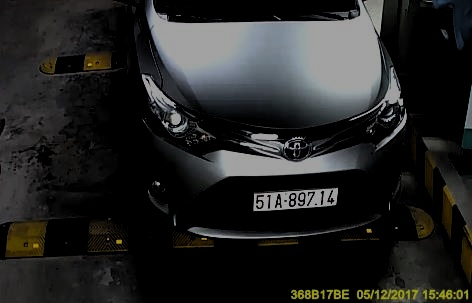plate: (248, 181, 350, 217)
